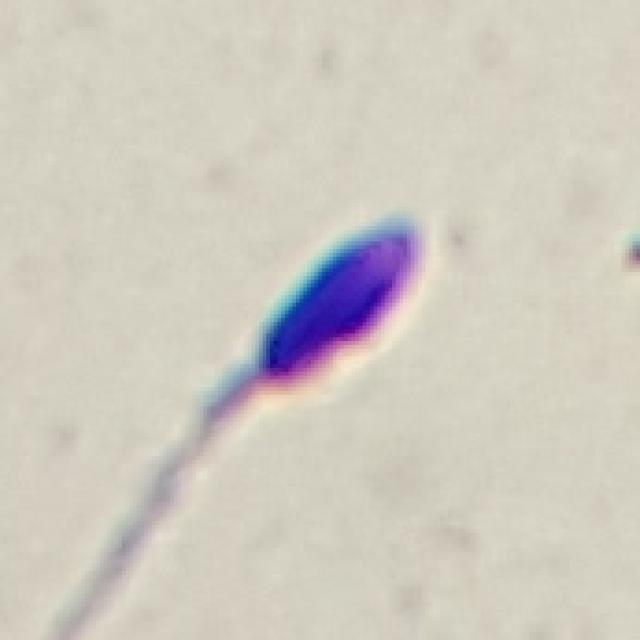abnormal sperm: (126, 211, 444, 524)
